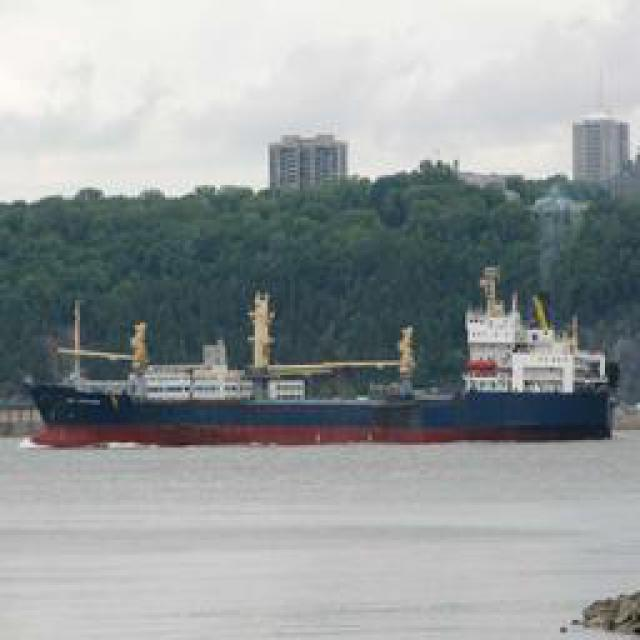Ship: (15, 286, 628, 449)
